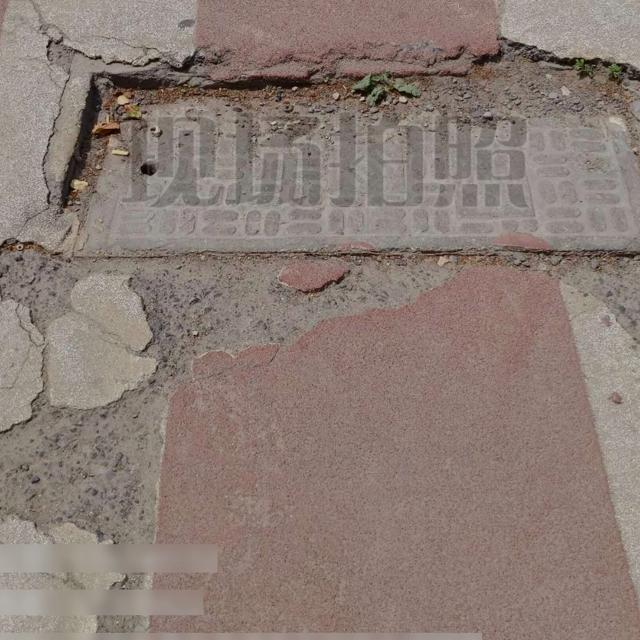circle: (38, 61, 640, 269)
